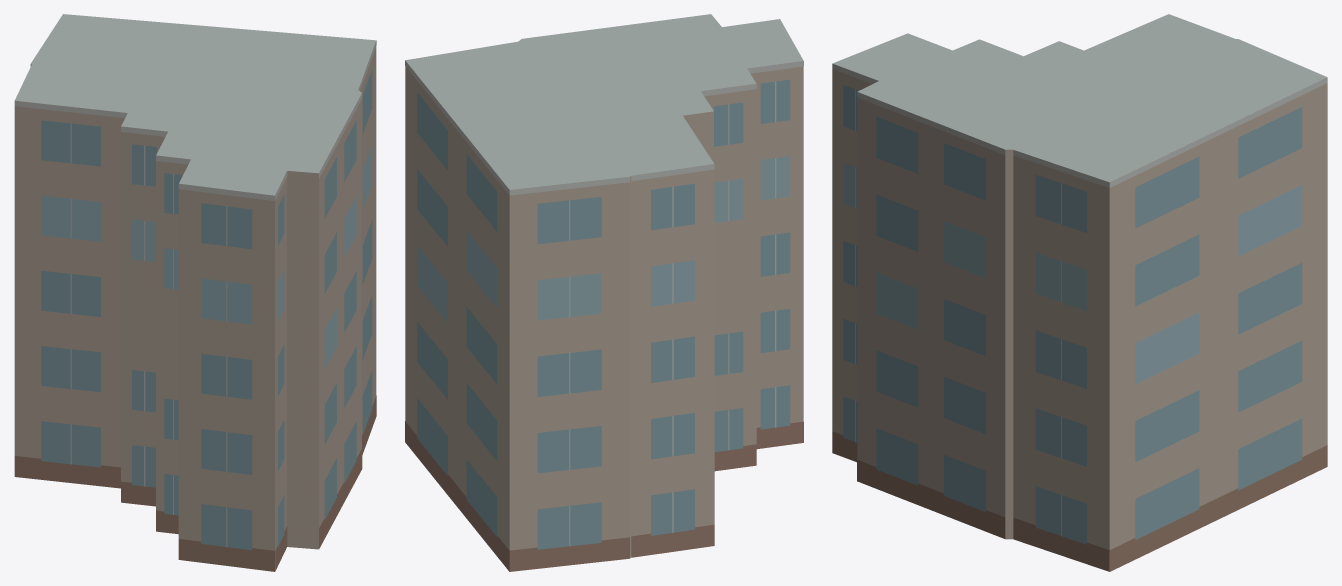
The model's file is survey-upis-32487668.glb.
The picture shows the model from 3 angles, left to right: view 1: azimuth 30°, elevation 25°; view 2: azimuth 150°, elevation 25°; view 3: azimuth 270°, elevation 25°; orthographic projection. The views are drawn at different scales.
Visible parts, largest first — view 1: survey-upis-32487668.tmp; view 2: survey-upis-32487668.tmp; view 3: survey-upis-32487668.tmp.
Boxes of the visible parts, x1=… form: survey-upis-32487668.tmp: x1=14, y1=14, x2=376, y2=571; survey-upis-32487668.tmp: x1=405, y1=14, x2=803, y2=571; survey-upis-32487668.tmp: x1=832, y1=14, x2=1327, y2=571.
Size of the model in its own units: 15.58 by 16.8 by 19.37.
